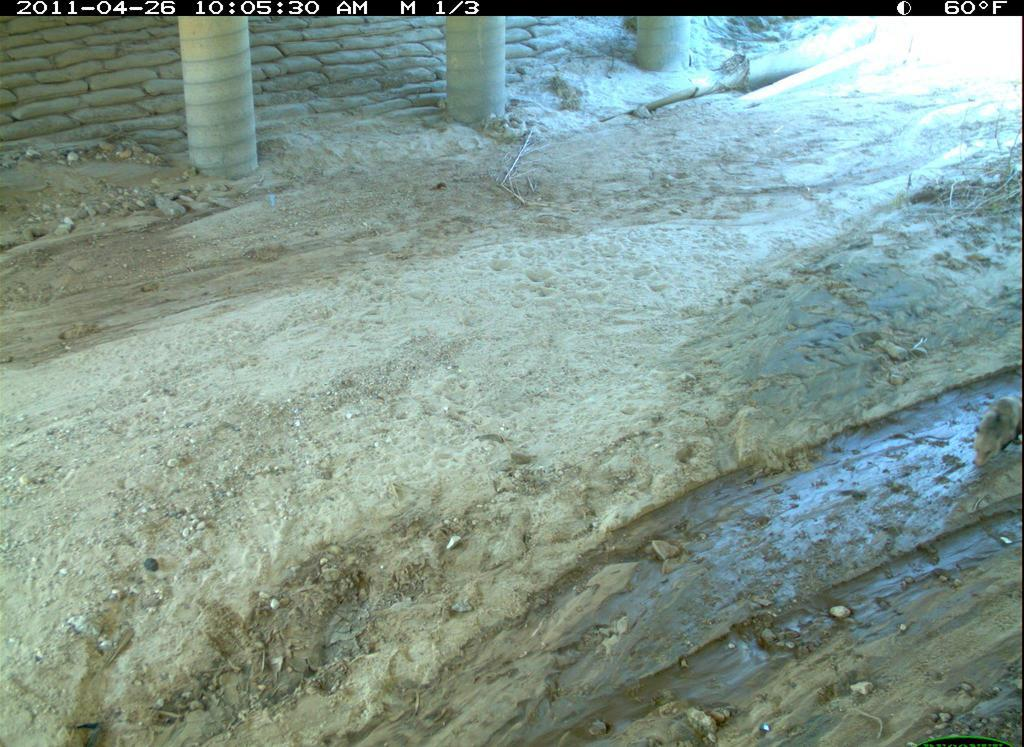opossum: (962, 373, 1022, 475)
